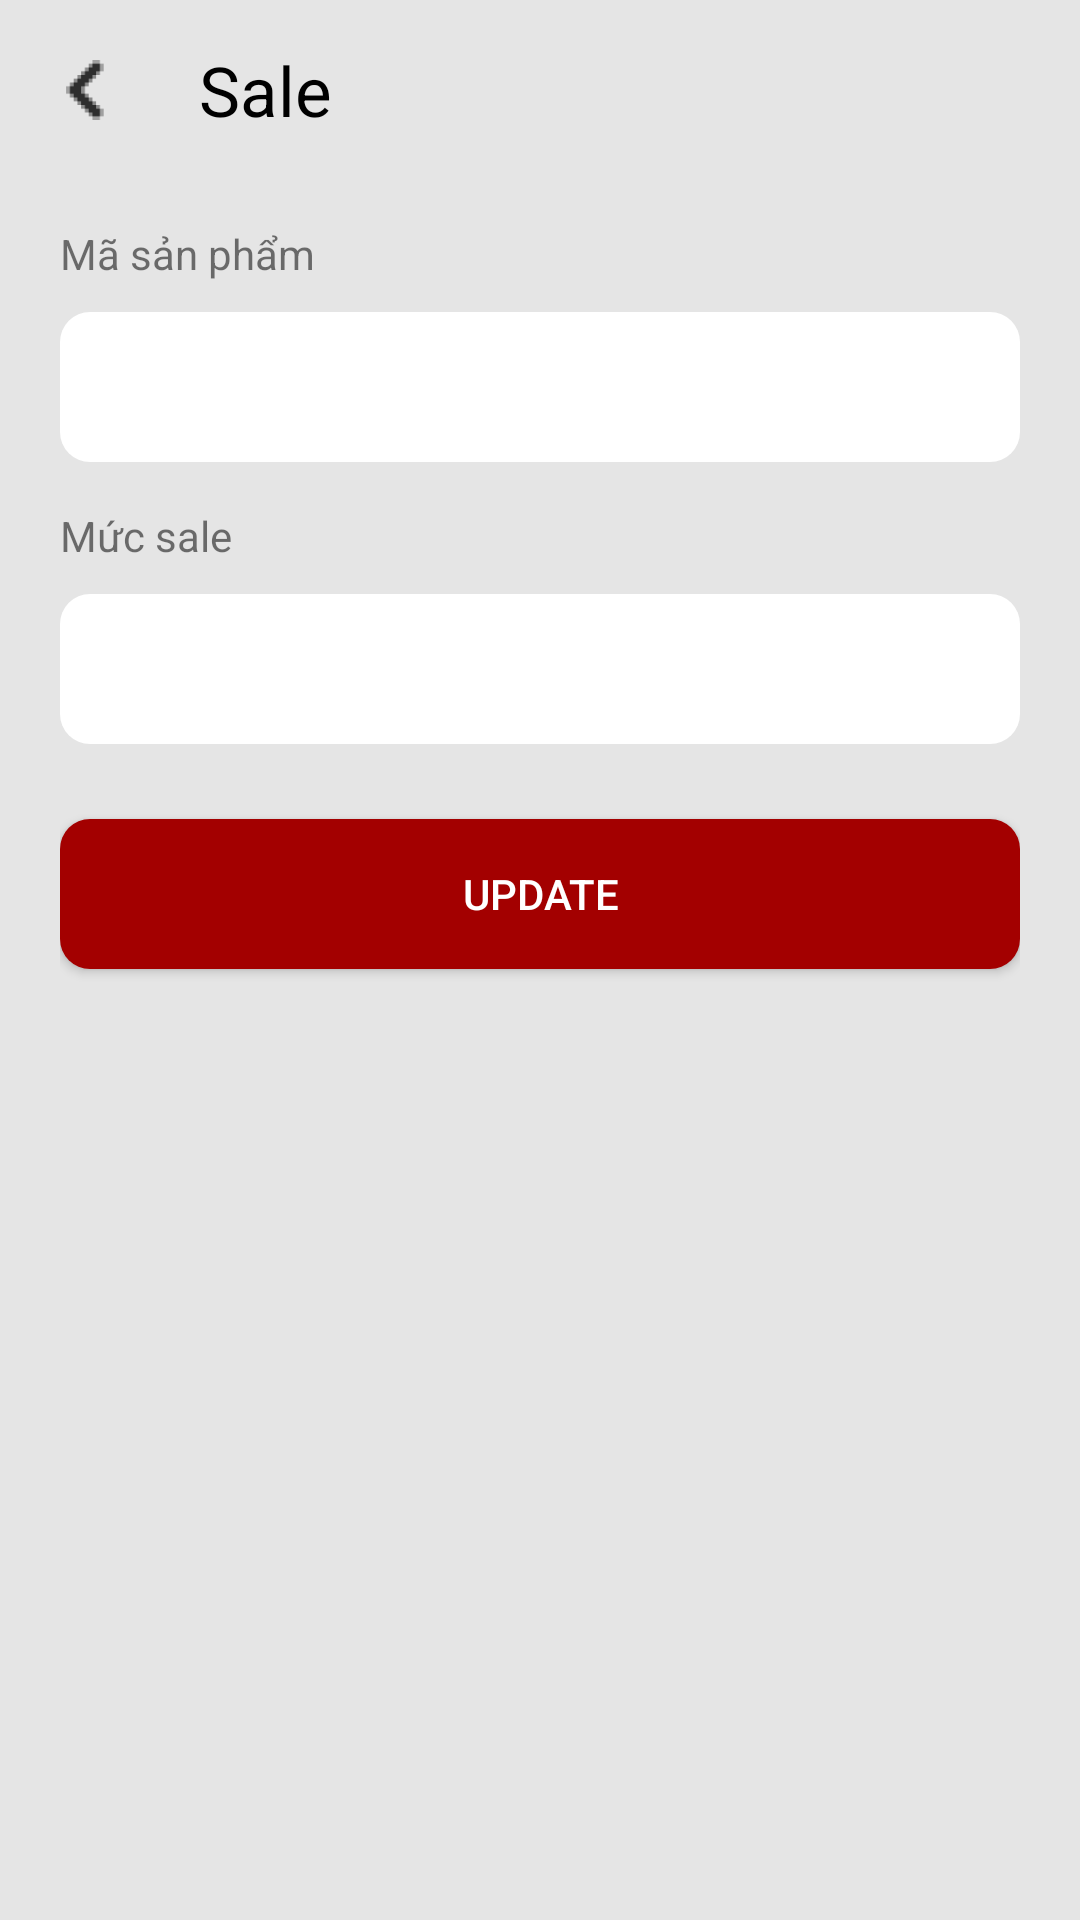

Icons on this 1080 x 1920 Android screen, each with its box as (x1, y1, x2, y2):
back: (66, 60, 104, 120)
